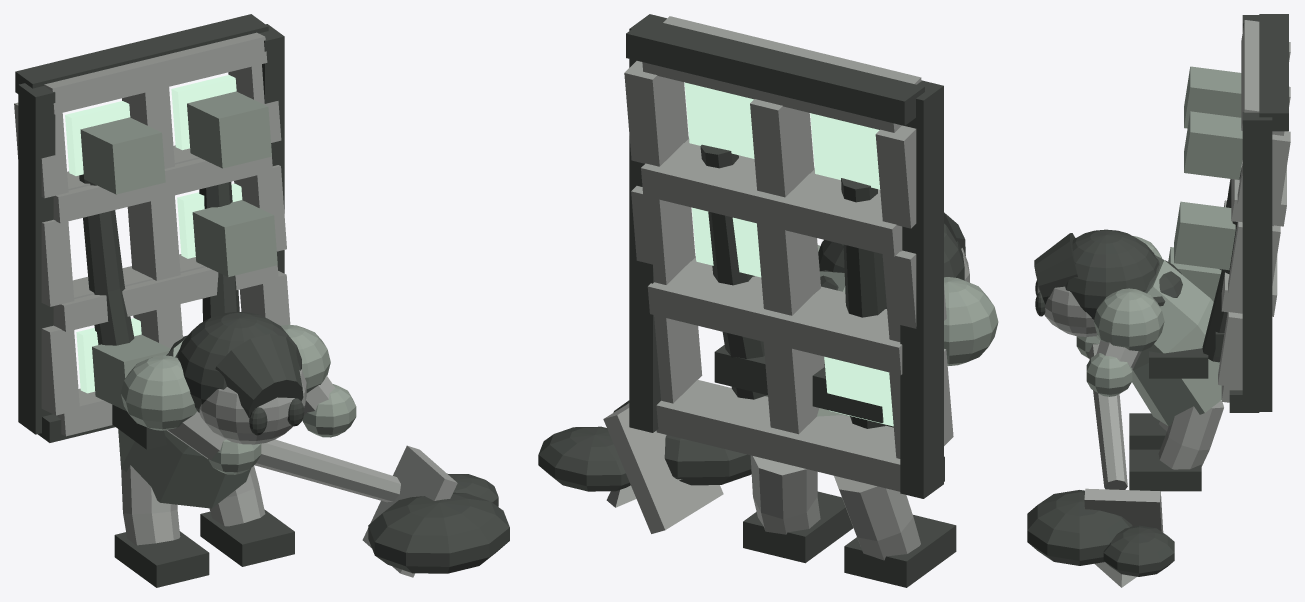
The model's file is sexton_chibi.glb.
The picture shows the model from 3 angles, left to right: view 1: azimuth 30°, elevation 25°; view 2: azimuth 150°, elevation 25°; view 3: azimuth 270°, elevation 25°; orthographic projection. The views are drawn at different scales.
Parts seen in each view (by area): view 1: sexton_chibi_bone, sexton_chibi_dark, sexton_chibi_body, sexton_chibi_glow; view 2: sexton_chibi_bone, sexton_chibi_dark, sexton_chibi_glow, sexton_chibi_body; view 3: sexton_chibi_dark, sexton_chibi_body, sexton_chibi_bone.
Boxes of the visible parts, x1,y1,x2,y2 form: sexton_chibi_bone: (14, 32, 457, 577); sexton_chibi_dark: (15, 14, 509, 587); sexton_chibi_body: (80, 91, 356, 508); sexton_chibi_glow: (65, 75, 242, 393); sexton_chibi_bone: (603, 16, 969, 560); sexton_chibi_dark: (538, 14, 965, 587); sexton_chibi_glow: (684, 82, 893, 426); sexton_chibi_body: (765, 245, 998, 416); sexton_chibi_dark: (1027, 14, 1288, 576); sexton_chibi_body: (1076, 66, 1242, 426); sexton_chibi_bone: (1037, 20, 1290, 587).
Bounding box in the file's own units: 2.07 × 2.45 × 1.37.
